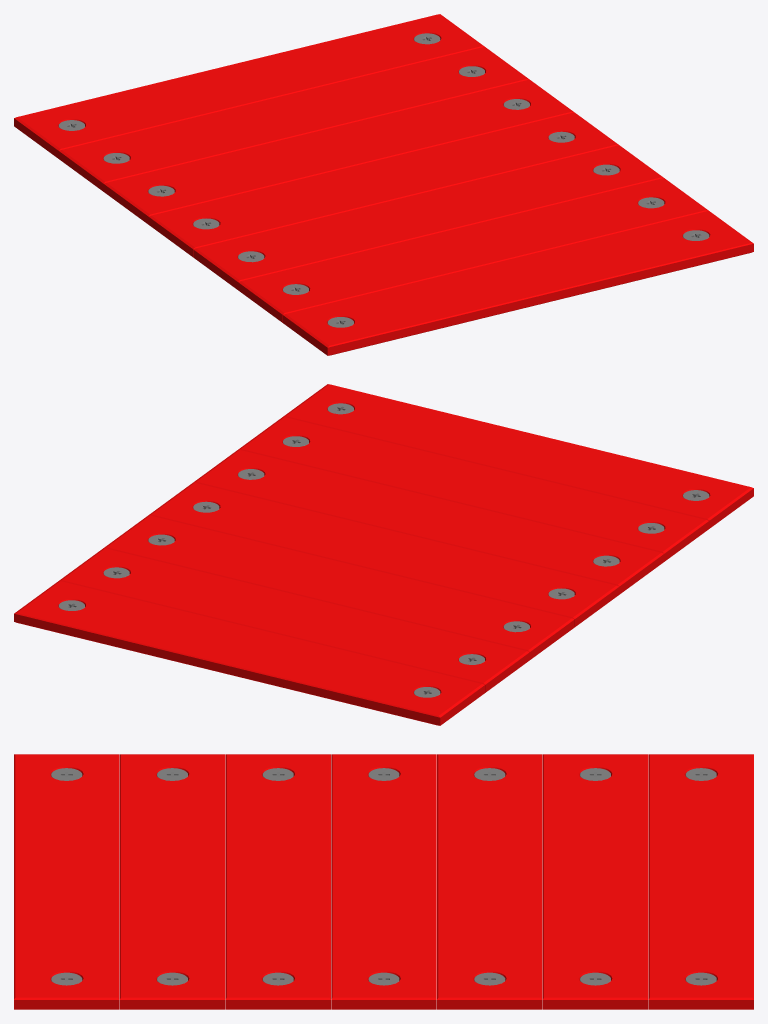
File: BoltedPlankFloorRed.fbx
The picture shows the model from 3 angles, top to bottom: view 1: azimuth 30°, elevation 25°; view 2: azimuth 150°, elevation 25°; view 3: azimuth 270°, elevation 25°; orthographic projection. The views are drawn at different scales.
Parts seen in each view (by area): view 1: Cube, Cube.001; view 2: Cube, Cube.001; view 3: Cube, Cube.001.
Part boxes in pixels (x1,y1,x2,y2): Cube: (14,14,753,355); Cube.001: (58,33,709,327); Cube: (14,384,753,725); Cube.001: (58,403,709,697); Cube: (14,754,753,1009); Cube.001: (51,768,716,985).
Size of the model in its own units: 21.97 by 0.4885 by 27.99.
